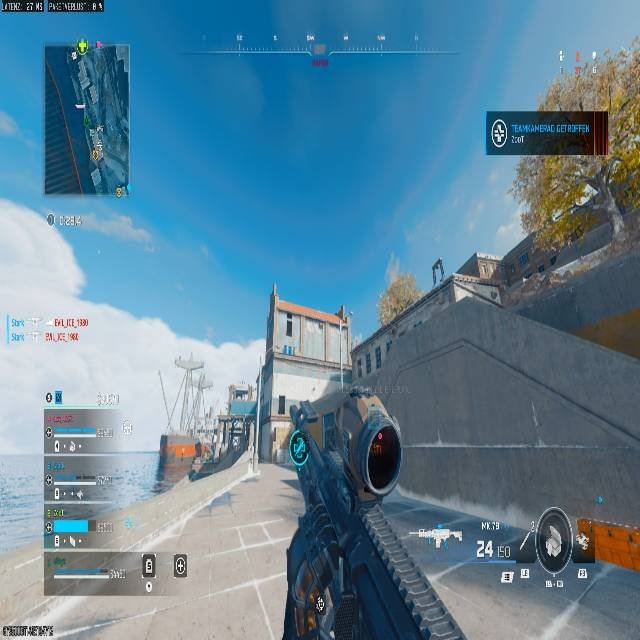player: (287, 404, 310, 465)
